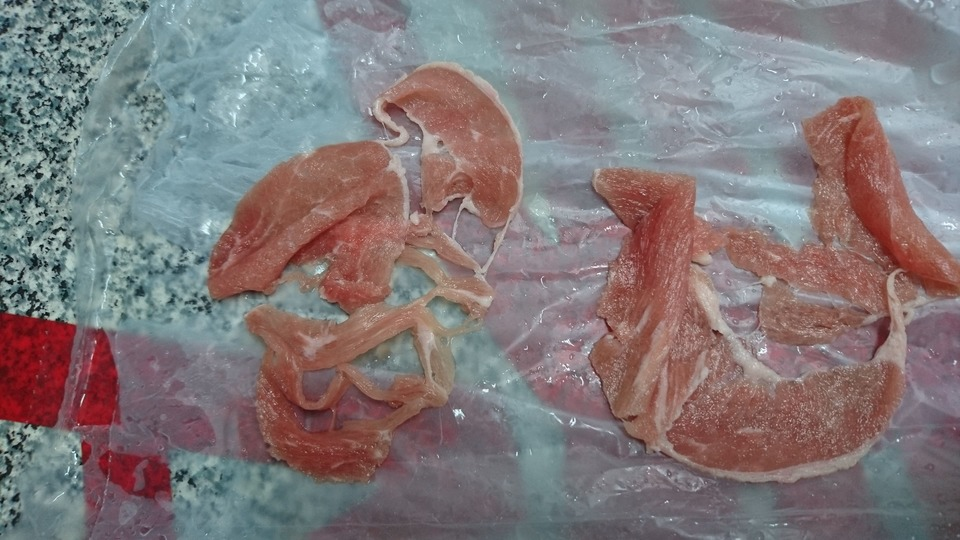restructured meat: (591, 52, 959, 482), (202, 58, 529, 491)
